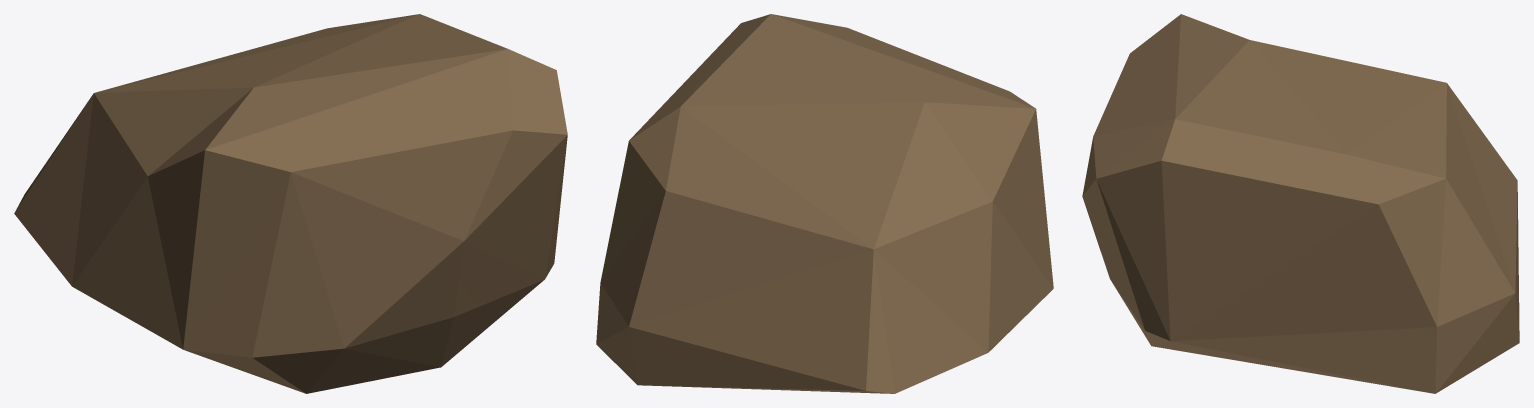
The model's file is zone3-s24.glb.
3 renders of one model, left to right at view 1: azimuth 30°, elevation 25°; view 2: azimuth 150°, elevation 25°; view 3: azimuth 270°, elevation 25°, orthographic. The views are drawn at different scales.
Visible parts, largest first — view 1: rock-sandstone-small-b.001; view 2: rock-sandstone-small-b.001; view 3: rock-sandstone-small-b.001.
Boxes of the visible parts, <box> form: rock-sandstone-small-b.001: <box>14,14,567,393</box>; rock-sandstone-small-b.001: <box>596,14,1053,393</box>; rock-sandstone-small-b.001: <box>1082,14,1519,393</box>.
Size of the model in its own units: 81.43 by 57.45 by 86.72.
